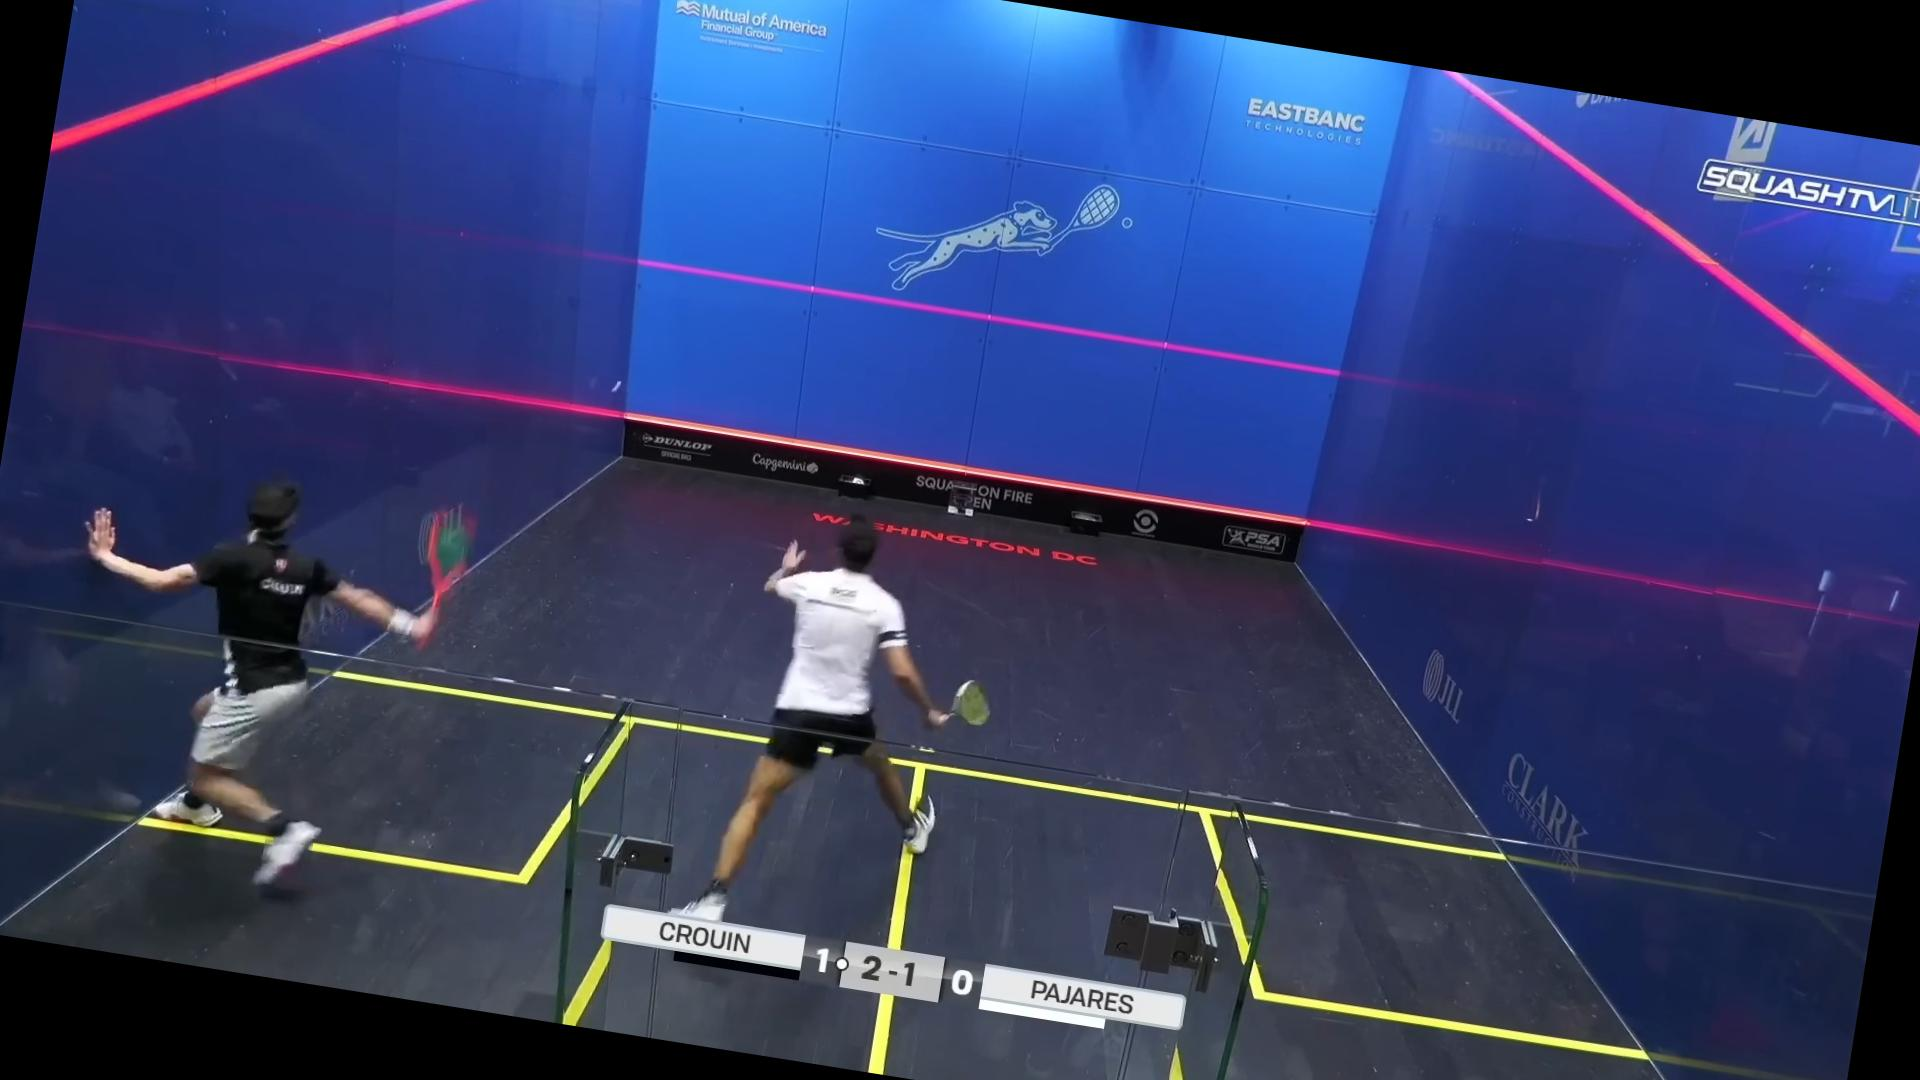Squash-Ball: (600, 372, 630, 404)
